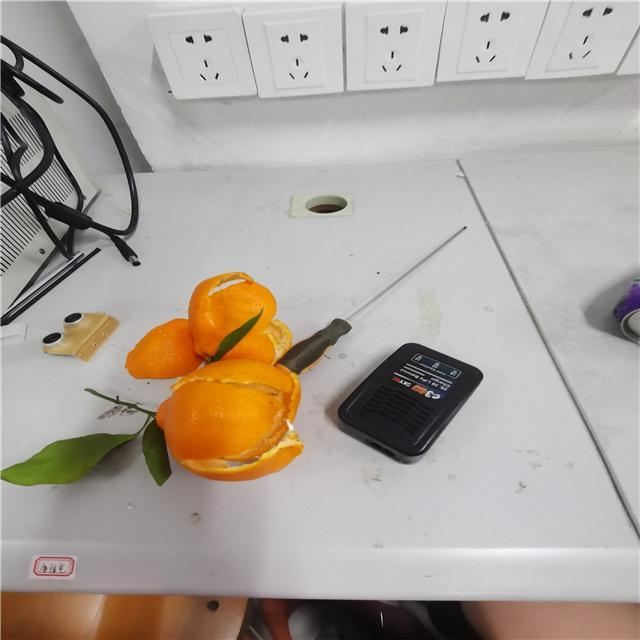orange-peel: (0, 266, 306, 494)
